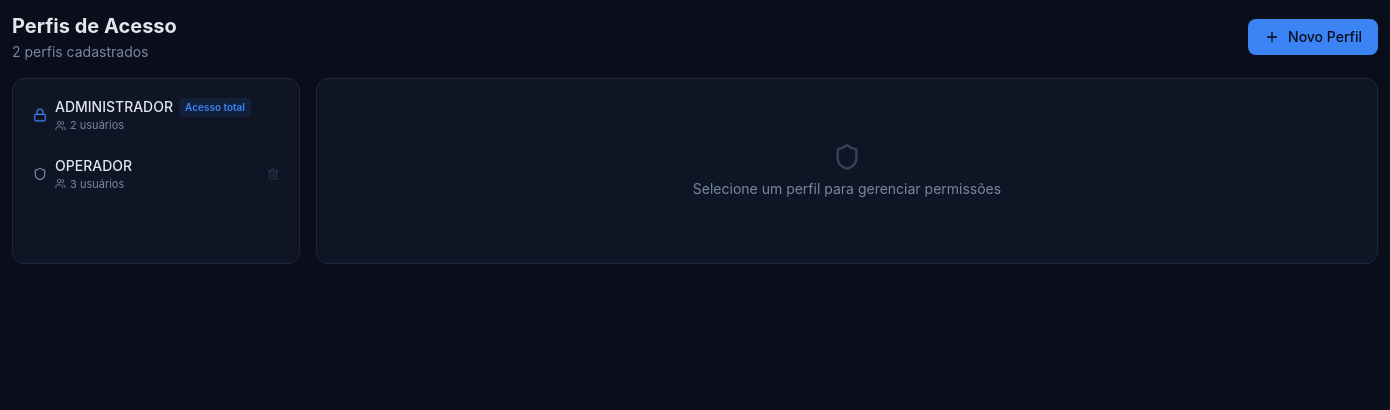
Scenario: PerfisAcessoPage › aba Coletor mostra os módulos do coletor sem o sufixo e esconde os do web
Click the text "OPERADOR" at coordinates (94, 166), box x1=55 y1=156 x2=132 y2=176
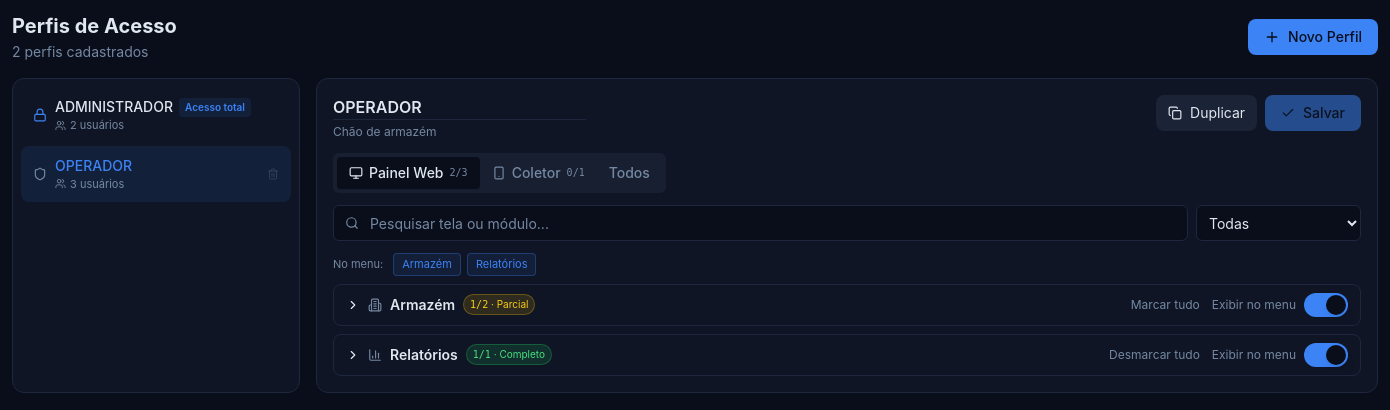
Now the text "No menu:" is shown, box x1=333 y1=256 x2=383 y2=272
Press the mouse on the tab "Coletor 0/1" at coordinates (538, 173), box x1=480 y1=157 x2=597 y2=189
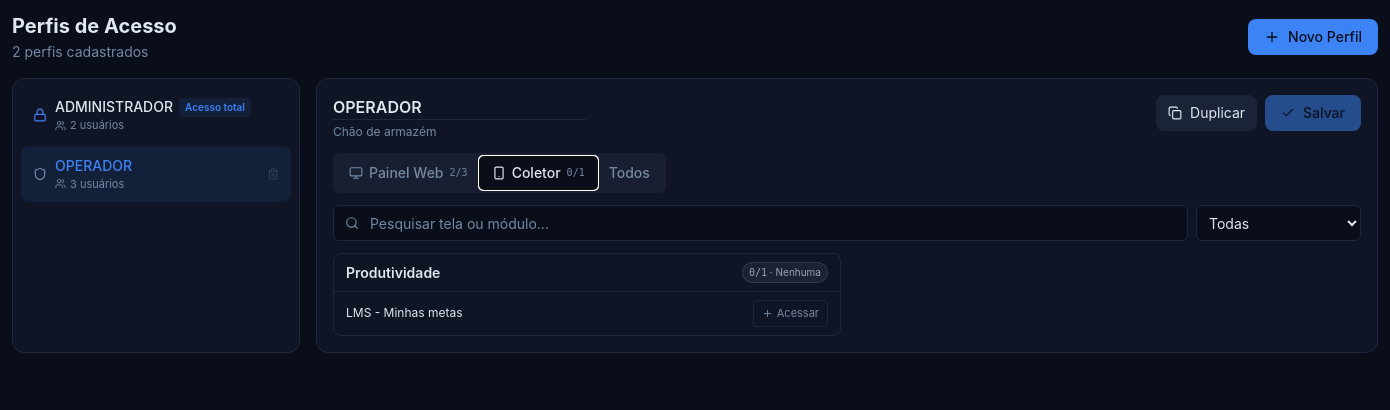
Now the text "LMS - Minhas metas" is shown, box x1=346 y1=305 x2=462 y2=321
Now the text "No menu:" is gone
